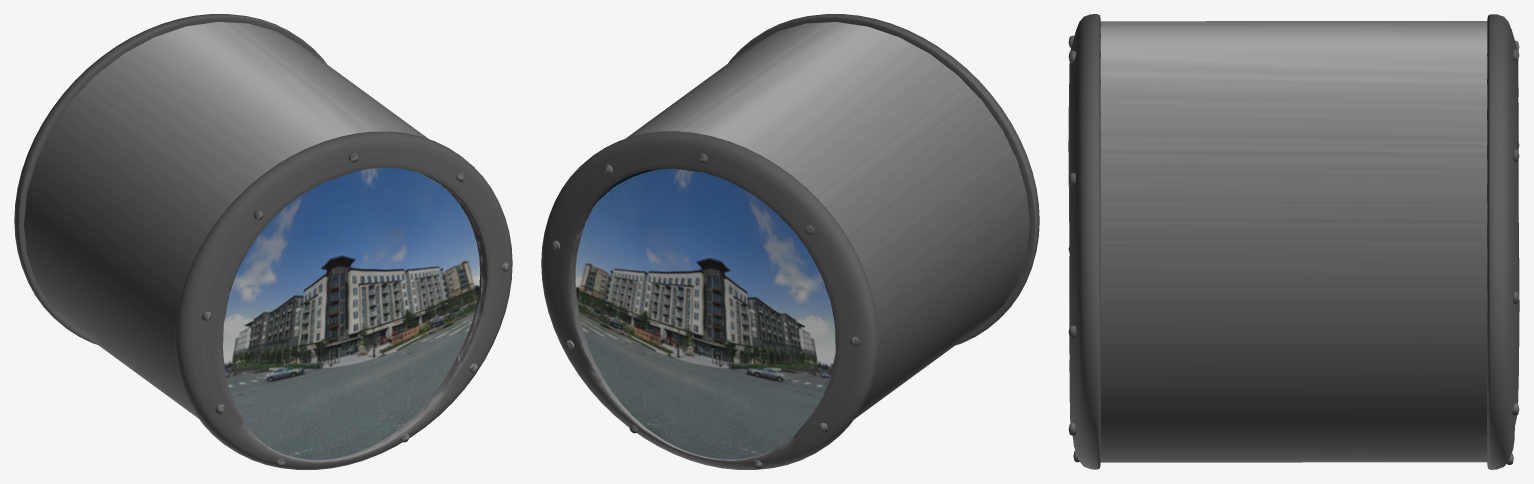
File: enter_the_portal_12.glb
3 views of the same model, side by side, from view 1: azimuth 30°, elevation 25°; view 2: azimuth 150°, elevation 25°; view 3: azimuth 270°, elevation 25° (orthographic). The views are drawn at different scales.
Parts seen in each view (by area): view 1: Object013_17 - Default_0, Sphere012, Sphere016_12 - Default_0, Sphere017_12 - Default_0; view 2: Object013_17 - Default_0, Sphere012, Sphere017_12 - Default_0, Sphere016_12 - Default_0; view 3: Object013_17 - Default_0, Sphere016_12 - Default_0, Sphere017_12 - Default_0.
Part boxes in pixels (x1=…): Object013_17 - Default_0: x1=24, y1=22, x2=428, y2=418; Sphere012: x1=223, y1=167, x2=480, y2=459; Sphere016_12 - Default_0: x1=175, y1=131, x2=512, y2=469; Sphere017_12 - Default_0: x1=14, y1=14, x2=326, y2=344; Object013_17 - Default_0: x1=626, y1=22, x2=1029, y2=419; Sphere012: x1=575, y1=168, x2=835, y2=459; Sphere017_12 - Default_0: x1=541, y1=131, x2=878, y2=469; Sphere016_12 - Default_0: x1=728, y1=14, x2=1039, y2=345; Object013_17 - Default_0: x1=1100, y1=21, x2=1487, y2=462; Sphere016_12 - Default_0: x1=1068, y1=14, x2=1100, y2=469; Sphere017_12 - Default_0: x1=1487, y1=14, x2=1519, y2=469.
Bounding box in the file's own units: 4.35 × 4.06 × 4.07.
4 materials, 4 textured.
